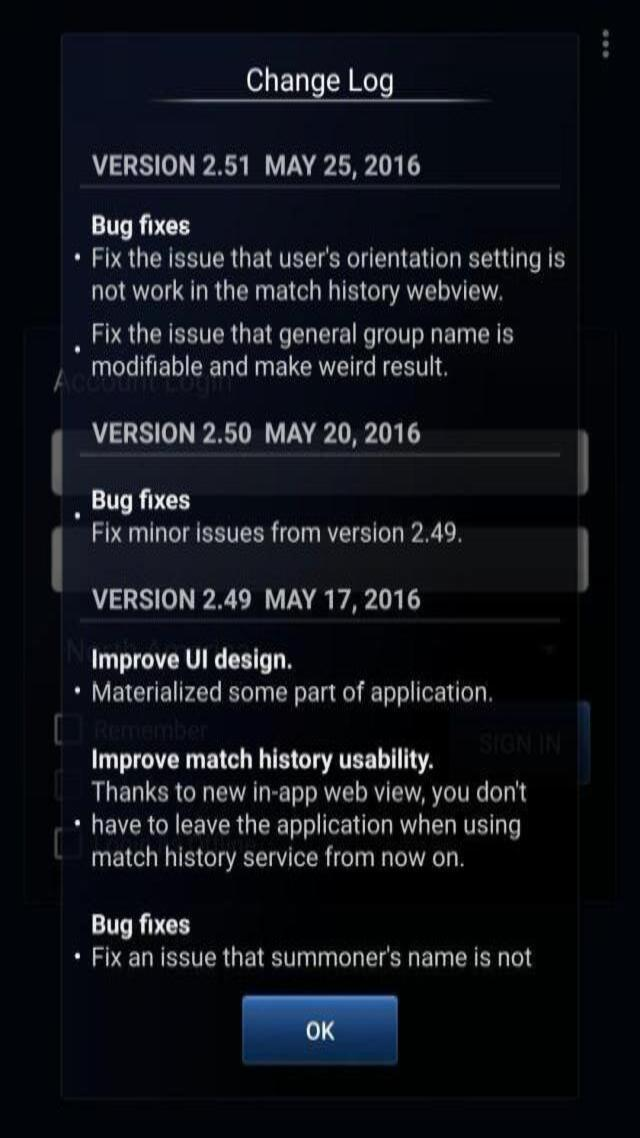Icon: (600, 25, 612, 62)
Text: (83, 775, 530, 809), (86, 243, 574, 274), (88, 318, 526, 351), (84, 142, 425, 184), (82, 412, 436, 451), (84, 944, 538, 973), (83, 582, 434, 619), (86, 811, 532, 840), (86, 351, 453, 386), (86, 677, 500, 708), (87, 516, 463, 550), (85, 844, 470, 876), (86, 280, 504, 308), (82, 743, 440, 772), (82, 643, 300, 675), (238, 65, 404, 100), (80, 906, 199, 940), (86, 482, 202, 516), (81, 208, 200, 240)
TextButton: (243, 995, 403, 1068)
